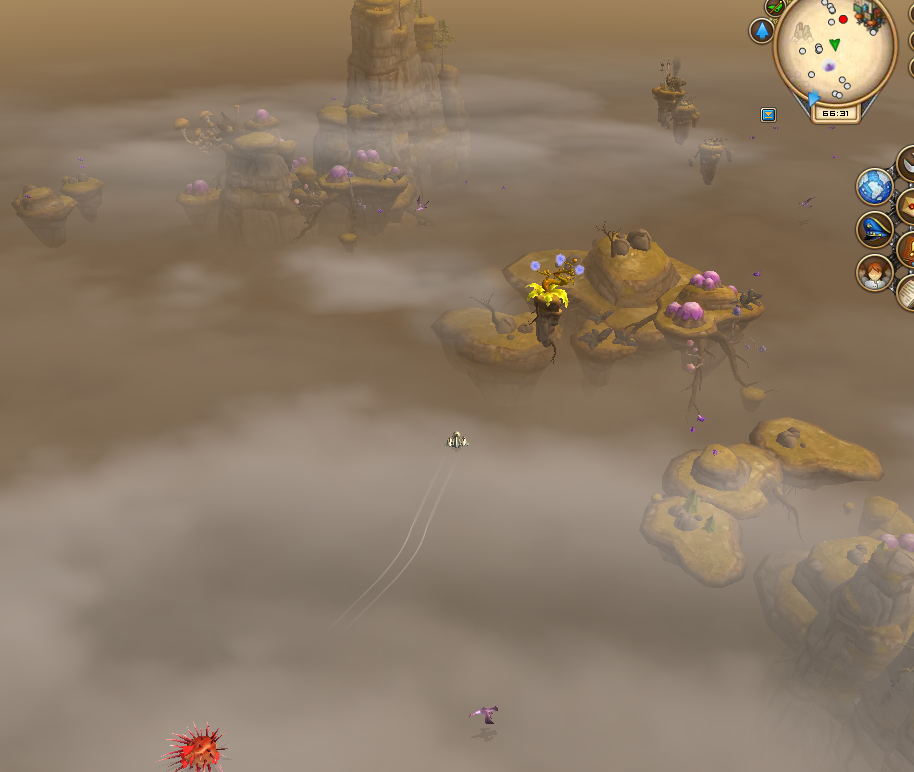dandelion-full: (522, 243, 588, 345)
